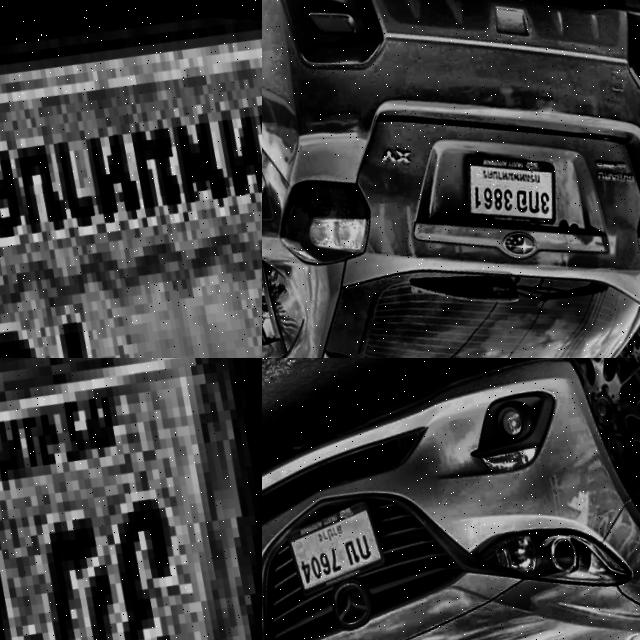license-plate: (0, 0, 262, 358), (0, 358, 262, 640), (455, 126, 570, 246), (279, 488, 394, 596)
